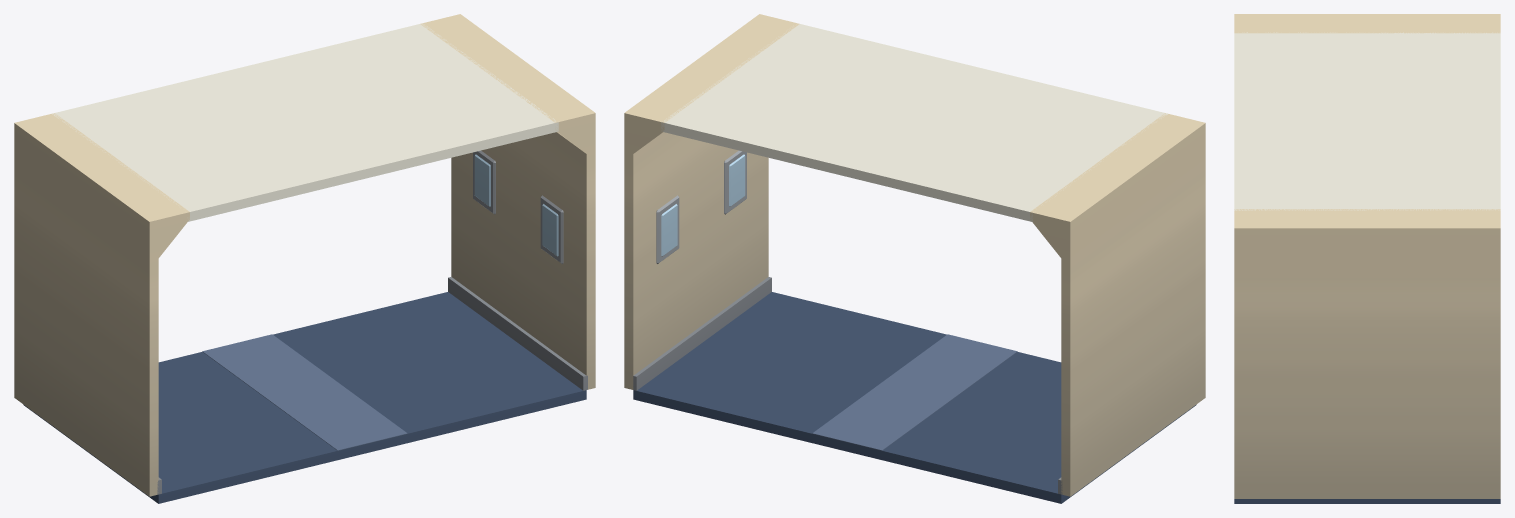
The model's file is Segmento.glb.
3 views of the same model, side by side, from view 1: azimuth 30°, elevation 25°; view 2: azimuth 150°, elevation 25°; view 3: azimuth 270°, elevation 25° (orthographic).
Parts seen in each view (by area): view 1: Segmento_Malha; view 2: Segmento_Malha; view 3: Segmento_Malha.
Boxes of the visible parts, x1,y1,x2,y2 form: Segmento_Malha: (14, 14, 595, 503); Segmento_Malha: (624, 14, 1205, 503); Segmento_Malha: (1234, 14, 1500, 503).
Size of the model in its own units: 3.96 by 2.41 by 2.08.
1 material, 1 textured.
